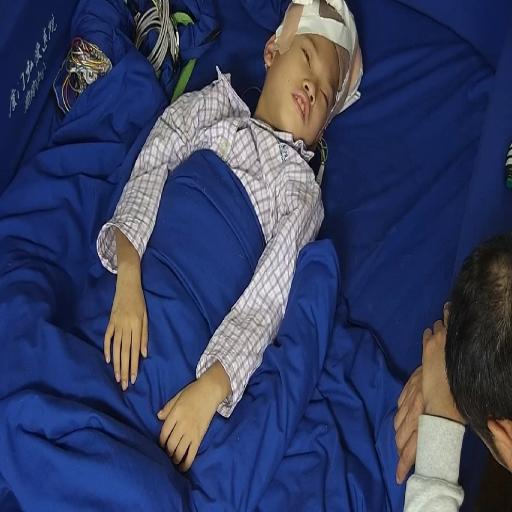Netural: (264, 8, 346, 141)
